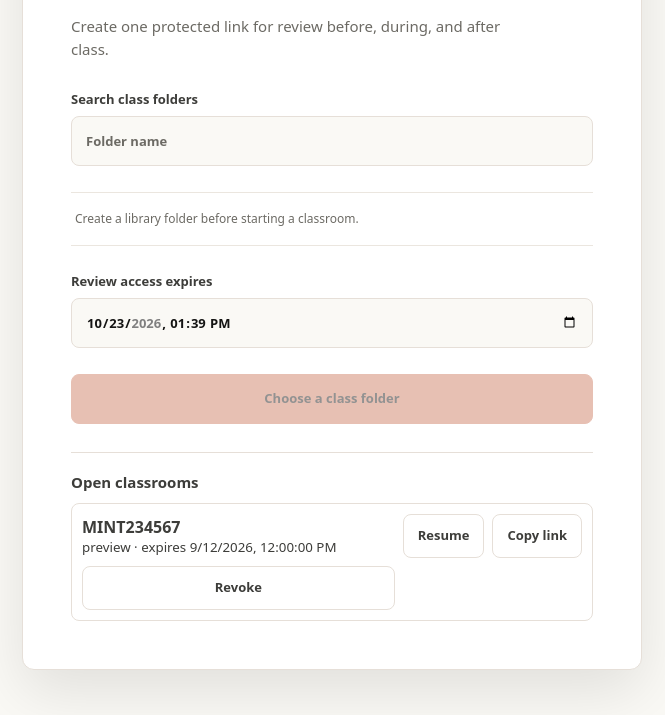
Scenario: Classroom teacher fresh-tab resume › removes a session that ends between discovery and resume
The image size is (665, 715).
(page scrolled)
Step 1. Click the button "Resume" → (444,536), box [403,514,484,558]
(page scrolled)
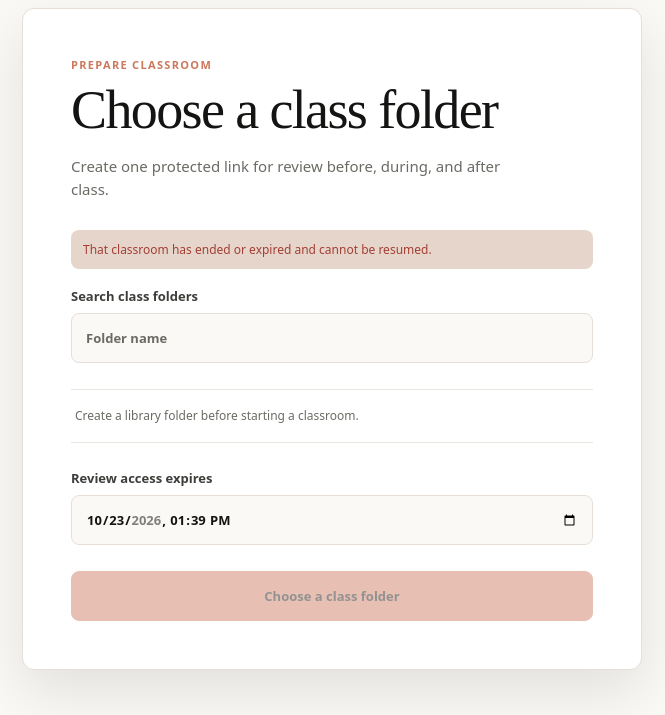
Now the message reads "That classroom has ended or expired and cannot be resumed.", box [83,240,432,258]
